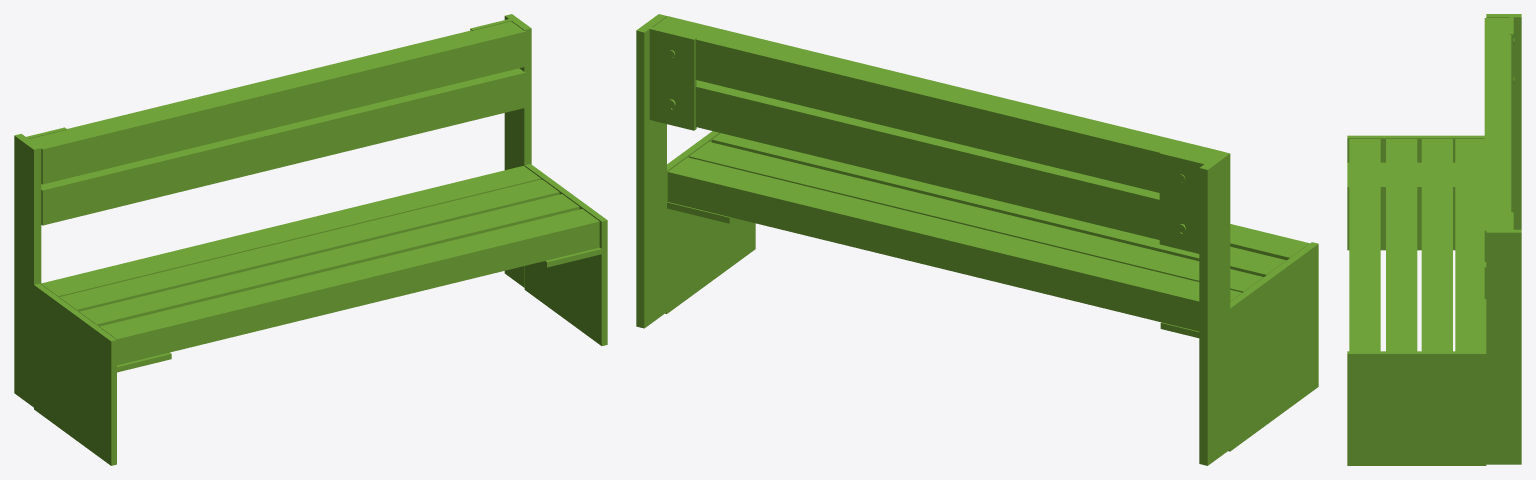
The picture shows the model from 3 angles, left to right: view 1: azimuth 30°, elevation 25°; view 2: azimuth 150°, elevation 25°; view 3: azimuth 270°, elevation 25°; orthographic projection. The views are drawn at different scales.
Visible parts, largest first — view 1: Cylinder.007; view 2: Cylinder.007; view 3: Cylinder.007.
Part boxes in pixels (box(x1,y1,x2,y2)): Cylinder.007: box(14, 14, 607, 465); Cylinder.007: box(636, 14, 1318, 465); Cylinder.007: box(1347, 14, 1521, 465).
Bounding box in the file's own units: 7.45 × 3.71 × 2.51.
